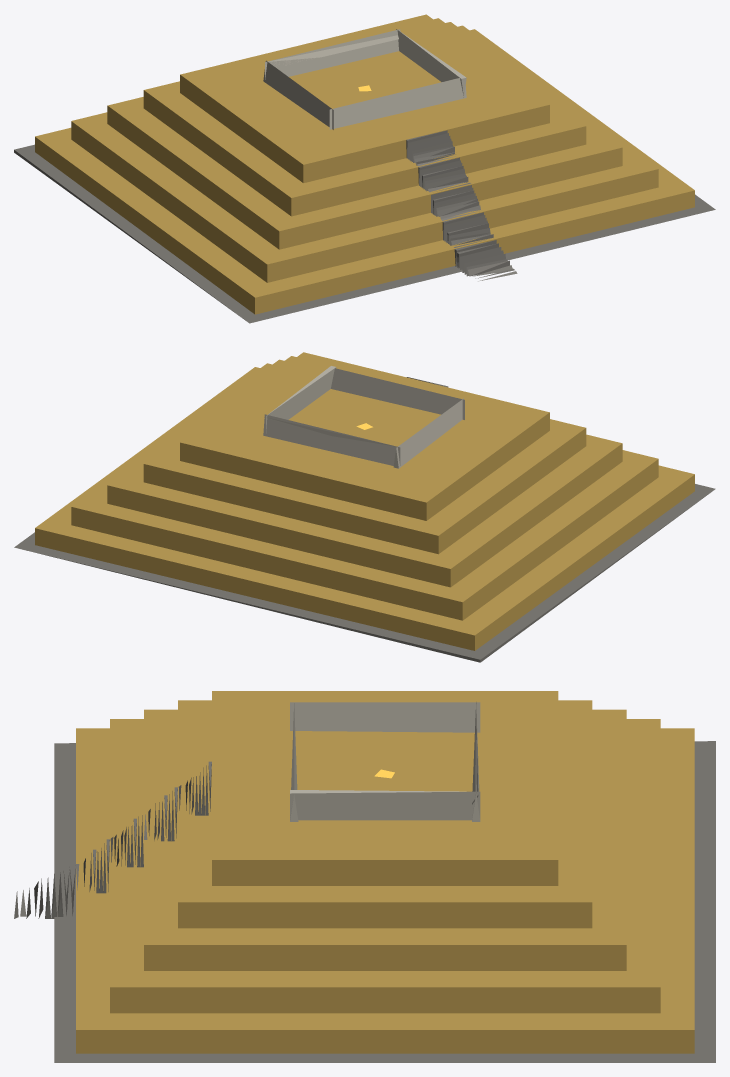
File: caral_pyramid_lesser_lod1.glb
The picture shows the model from 3 angles, top to bottom: view 1: azimuth 30°, elevation 25°; view 2: azimuth 150°, elevation 25°; view 3: azimuth 270°, elevation 25°; orthographic projection. The views are drawn at different scales.
Parts seen in each view (by area): view 1: GEO-Caral_PyramidLesser_LOD1_Plaster_Yellow, GEO-Caral_PyramidLesser_LOD1_Stone_Granodiorite, GEO-Caral_PyramidLesser_LOD1_Plaster_White; view 2: GEO-Caral_PyramidLesser_LOD1_Plaster_Yellow, GEO-Caral_PyramidLesser_LOD1_Plaster_White, GEO-Caral_PyramidLesser_LOD1_Stone_Granodiorite; view 3: GEO-Caral_PyramidLesser_LOD1_Plaster_Yellow, GEO-Caral_PyramidLesser_LOD1_Stone_Granodiorite, GEO-Caral_PyramidLesser_LOD1_Plaster_White.
Boxes of the visible parts, <box> form: GEO-Caral_PyramidLesser_LOD1_Plaster_Yellow: <box>35,14,694,314</box>; GEO-Caral_PyramidLesser_LOD1_Stone_Granodiorite: <box>14,130,715,323</box>; GEO-Caral_PyramidLesser_LOD1_Plaster_White: <box>263,29,466,129</box>; GEO-Caral_PyramidLesser_LOD1_Plaster_Yellow: <box>35,352,694,650</box>; GEO-Caral_PyramidLesser_LOD1_Plaster_White: <box>263,366,464,468</box>; GEO-Caral_PyramidLesser_LOD1_Stone_Granodiorite: <box>14,377,715,662</box>; GEO-Caral_PyramidLesser_LOD1_Plaster_Yellow: <box>76,691,694,1053</box>; GEO-Caral_PyramidLesser_LOD1_Stone_Granodiorite: <box>14,741,715,1062</box>; GEO-Caral_PyramidLesser_LOD1_Plaster_White: <box>290,702,480,821</box>.
Bounding box in the file's own units: 4.23 × 0.976 × 3.93.
